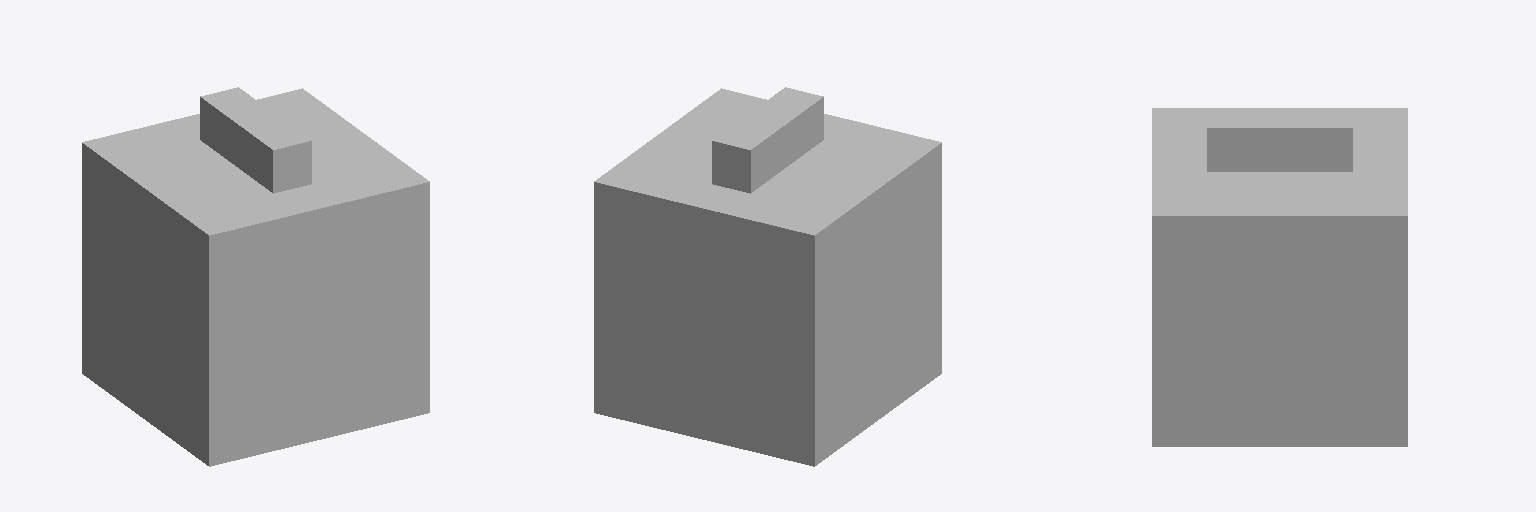
Rendered from Line_cube_cap_preprocessed.obj.
3 views of the same model, side by side, from view 1: azimuth 30°, elevation 25°; view 2: azimuth 150°, elevation 25°; view 3: azimuth 270°, elevation 25° (orthographic).
Size of the model in its own units: 0.08 by 0.095 by 0.08.